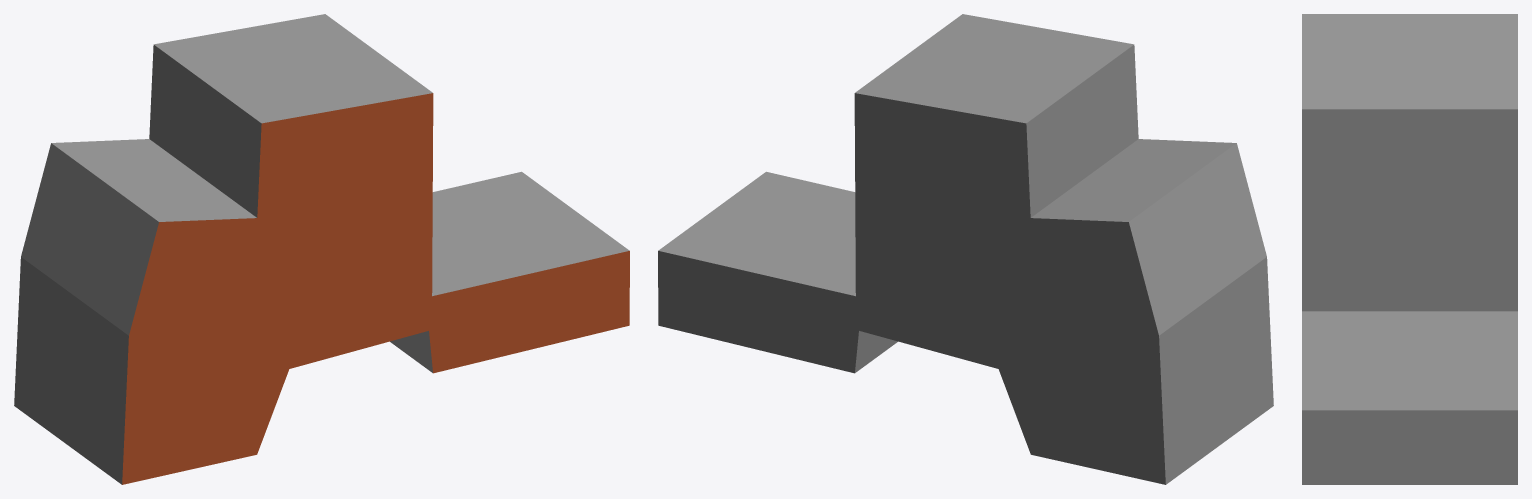
File: construction_2547_assumed_A_Casa_h6m.obj
The picture shows the model from 3 angles, left to right: view 1: azimuth 30°, elevation 25°; view 2: azimuth 150°, elevation 25°; view 3: azimuth 270°, elevation 25°; orthographic projection.
Visible parts, largest first — view 1: construction_2547_assumed_A_Casa; view 2: construction_2547_assumed_A_Casa; view 3: construction_2547_assumed_A_Casa.
Boxes of the visible parts, x1=… form: construction_2547_assumed_A_Casa: x1=14, y1=14, x2=629, y2=484; construction_2547_assumed_A_Casa: x1=658, y1=14, x2=1273, y2=484; construction_2547_assumed_A_Casa: x1=1302, y1=14, x2=1517, y2=484.
Size of the model in its own units: 16.28 by 10.12 by 6.
